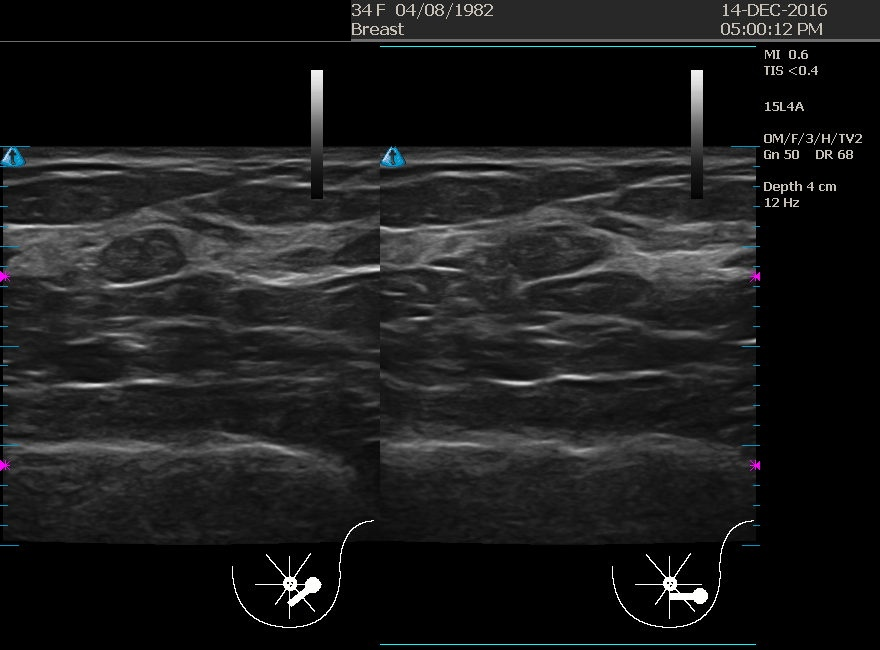BIRADS_3: (41, 171, 241, 371), (426, 155, 626, 355)
